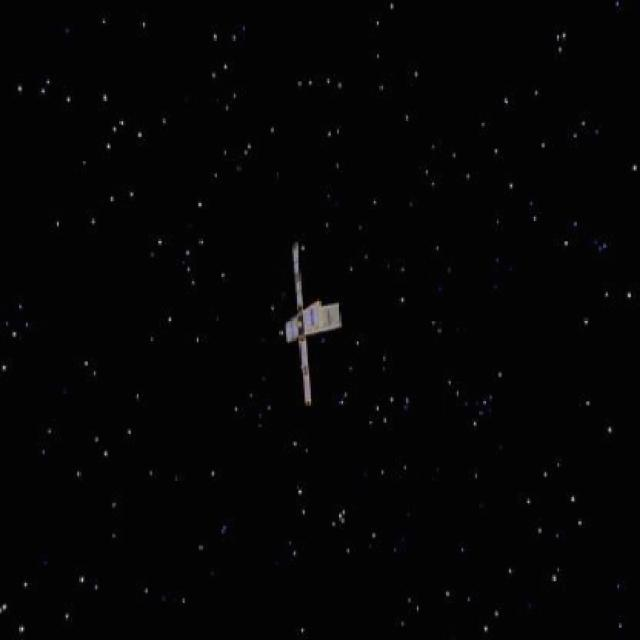satellite: (274, 236, 348, 409)
